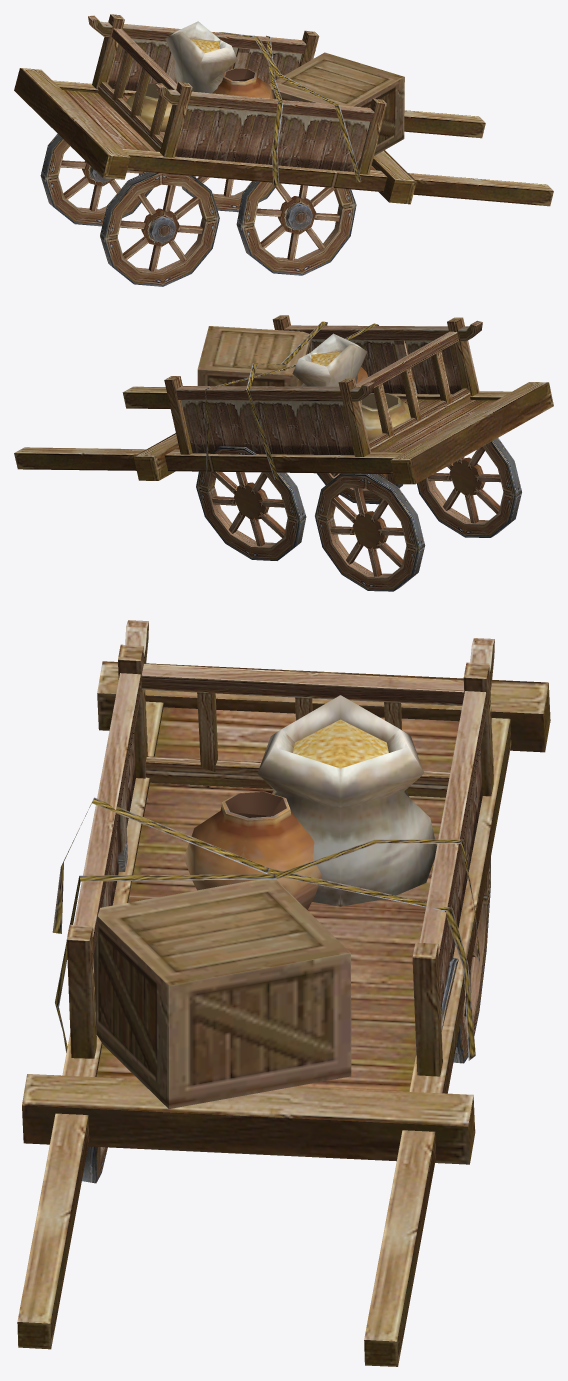
File: xzc_tuiche01_w.FBX
The picture shows the model from 3 angles, top to bottom: view 1: azimuth 30°, elevation 25°; view 2: azimuth 150°, elevation 25°; view 3: azimuth 270°, elevation 25°; orthographic projection. The views are drawn at different scales.
Visible parts, largest first — view 1: xzc_tuiche01_w; view 2: xzc_tuiche01_w; view 3: xzc_tuiche01_w.
Boxes of the visible parts, x1=… form: xzc_tuiche01_w: x1=14, y1=14, x2=553, y2=286; xzc_tuiche01_w: x1=14, y1=315, x2=553, y2=591; xzc_tuiche01_w: x1=17, y1=620, x2=550, y2=1366.
Size of the model in its own units: 47.18 by 21.28 by 24.22.
